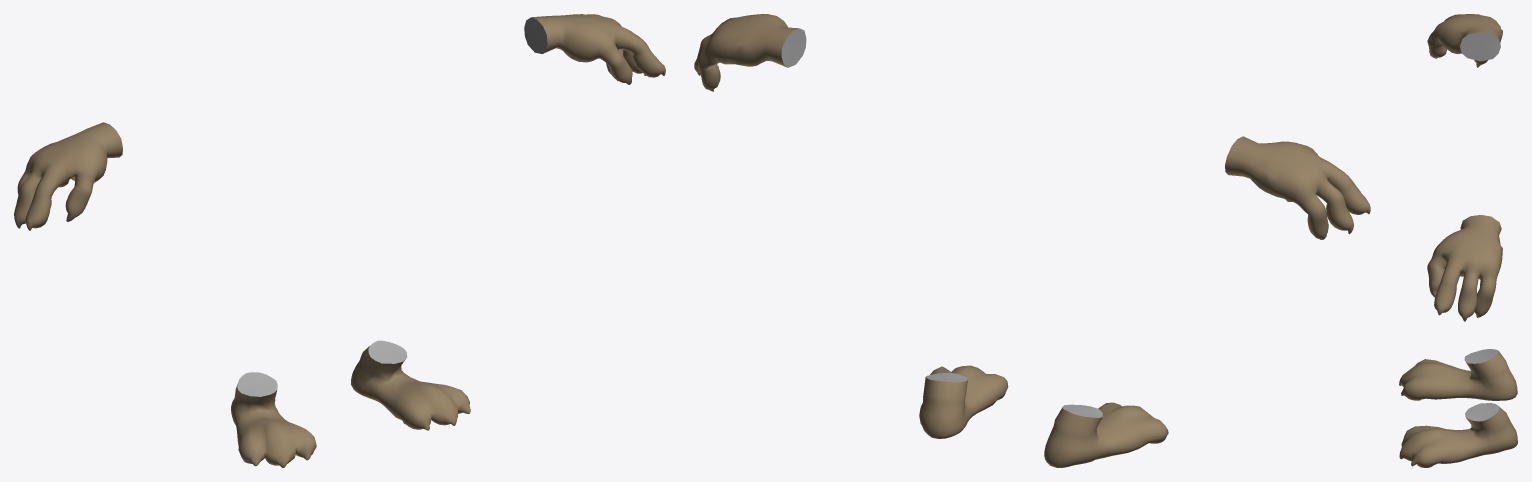
File: FPV.fbx
3 renders of one model, left to right at view 1: azimuth 30°, elevation 25°; view 2: azimuth 150°, elevation 25°; view 3: azimuth 270°, elevation 25°, orthographic. The views are drawn at different scales.
Parts seen in each view (by area): view 1: R_Paws, L_Paws, L_Foot, R_Foot; view 2: R_Paws, R_Foot, L_Paws, L_Foot; view 3: L_Paws, L_Foot, R_Foot, R_Paws.
Part boxes in pixels (<box>): R_Paws: <box>14,122,122,230</box>; L_Paws: <box>524,14,665,84</box>; L_Foot: <box>351,340,470,430</box>; R_Foot: <box>231,372,316,467</box>; R_Paws: <box>1225,136,1370,239</box>; R_Foot: <box>1044,402,1168,467</box>; L_Paws: <box>694,14,806,91</box>; L_Foot: <box>919,365,1008,438</box>; L_Paws: <box>1427,215,1502,321</box>; L_Foot: <box>1399,403,1517,467</box>; R_Foot: <box>1399,349,1517,400</box>; R_Paws: <box>1427,14,1502,67</box>.
Bounding box in the file's own units: 112 × 57.74 × 20.71.
